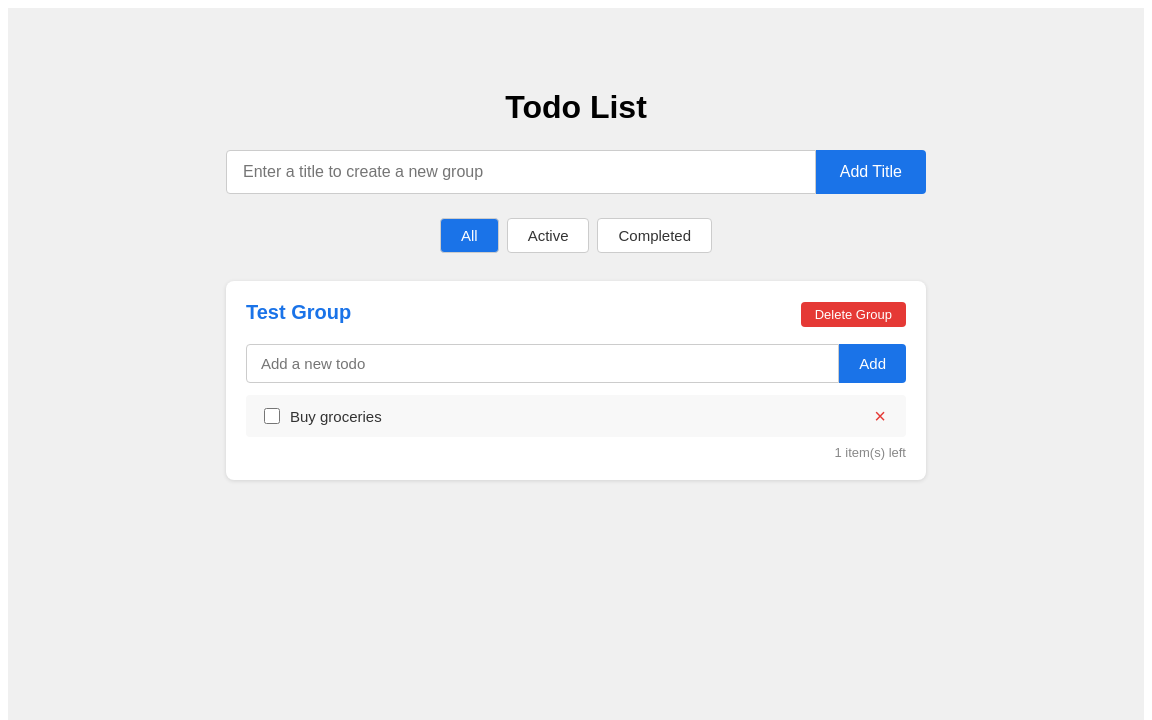
Test: Todo operations › deletes a todo from a group
The image size is (1152, 720).
Expected: the text "Buy groceries" is shown, [290,408,382,425]
Click the button with test id "delete-btn" at (880, 416), box [868,405,892,427]
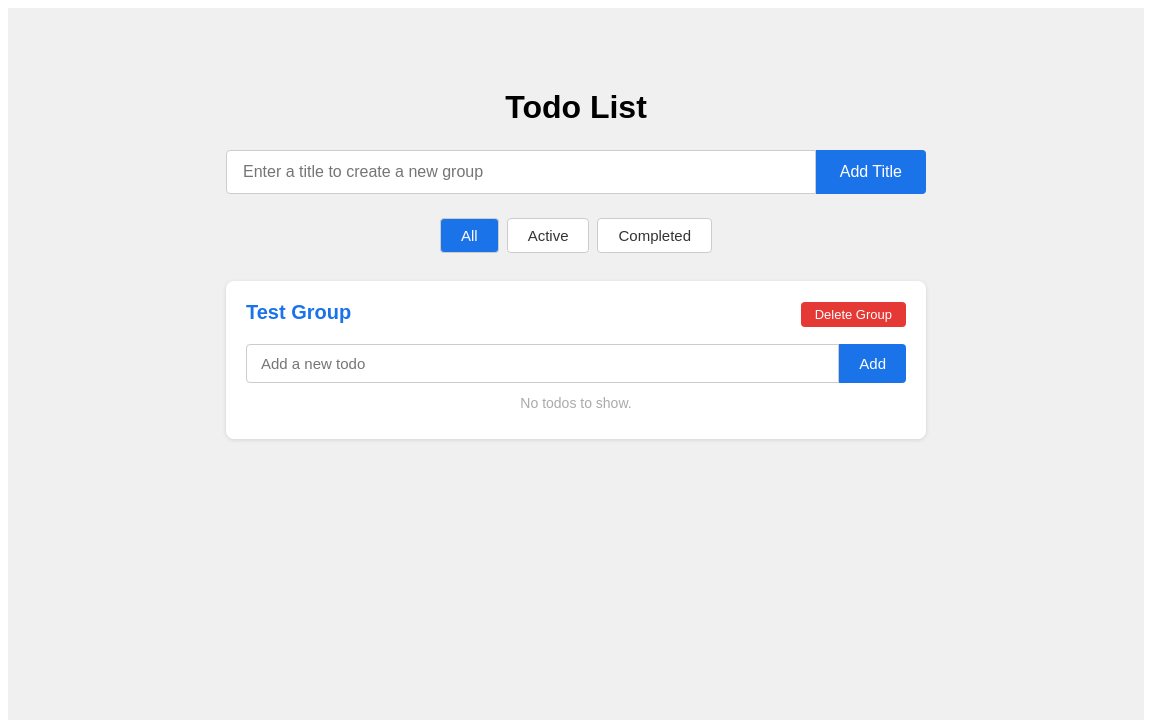
Expected: the text "Buy groceries" is gone
